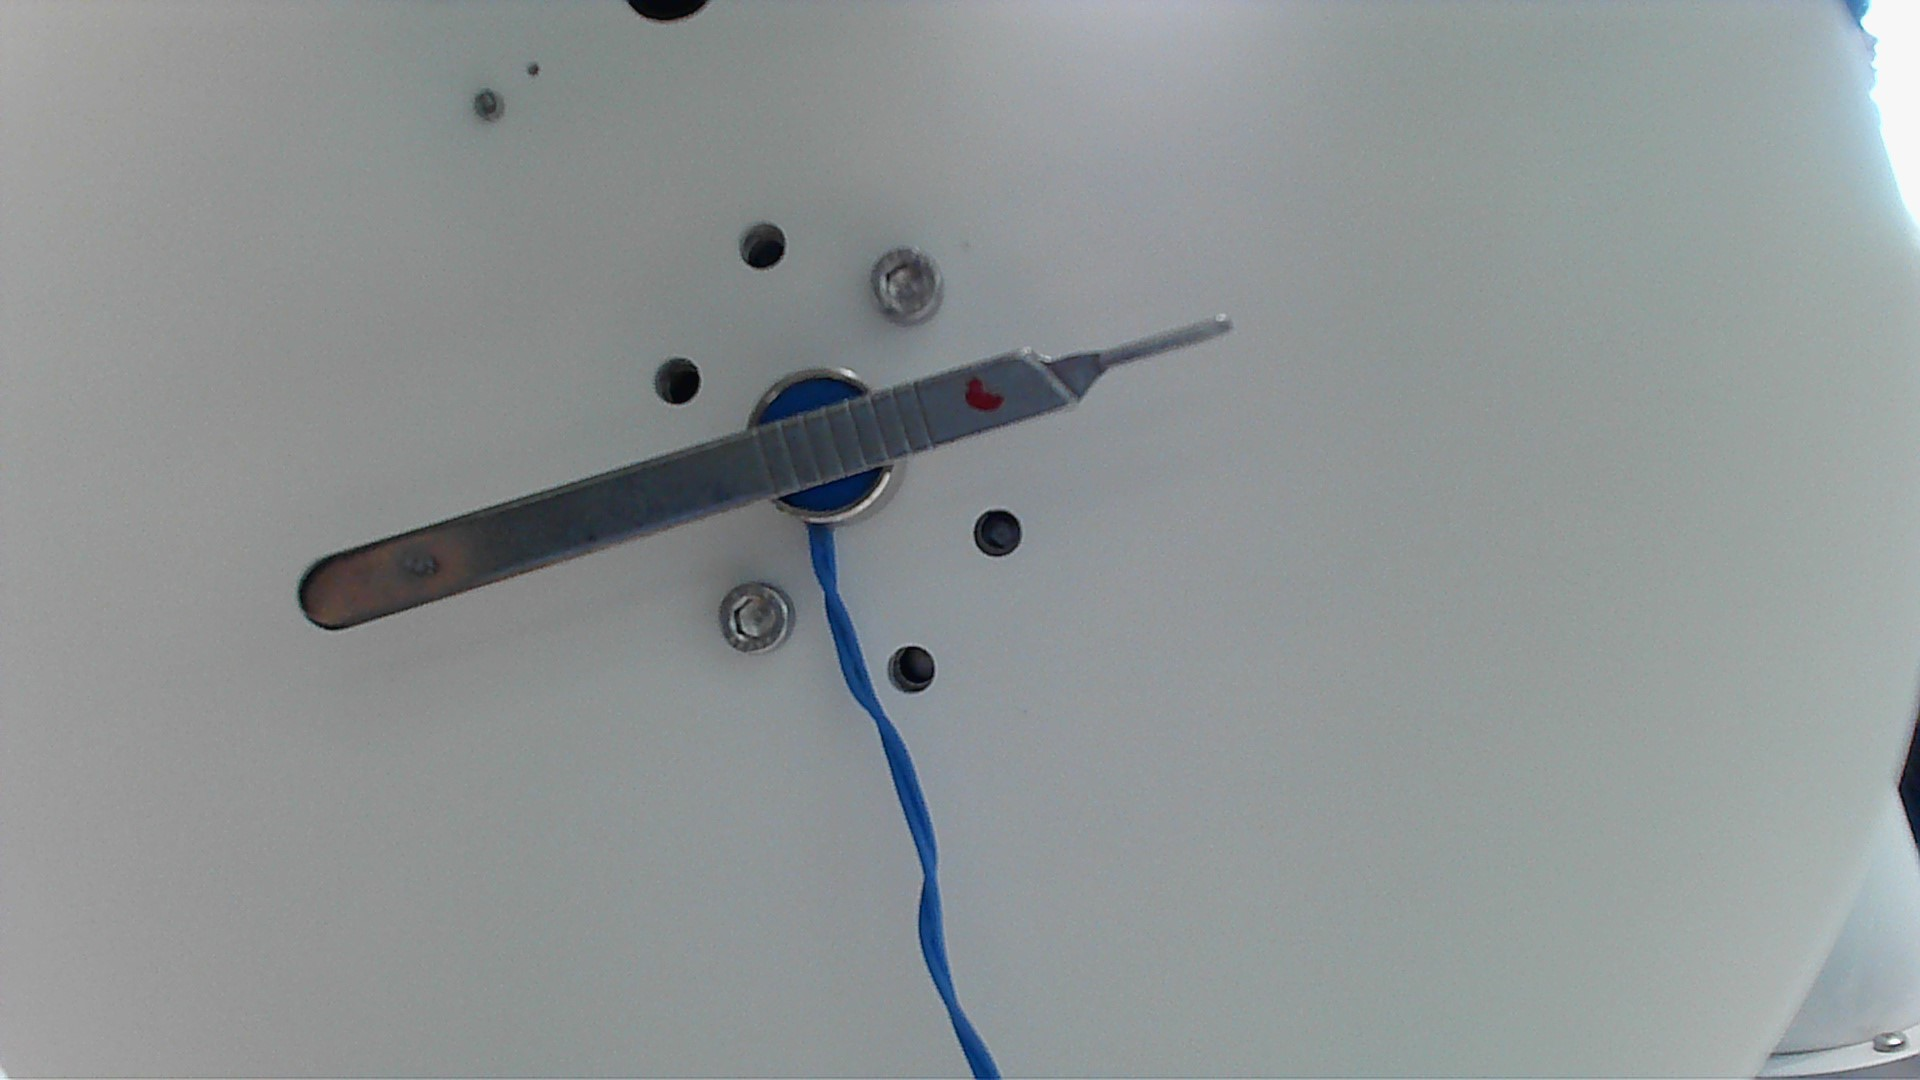Stain: (957, 369, 1013, 411)
